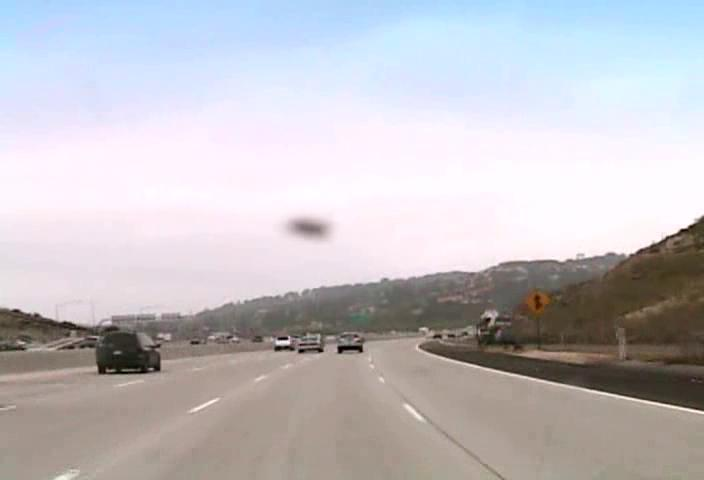merge: (522, 287, 551, 316)
